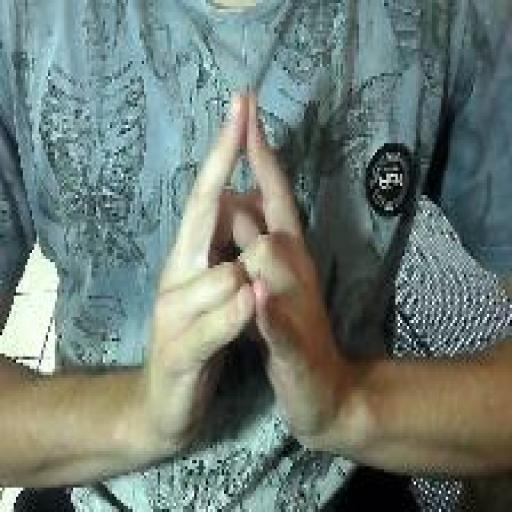Tori -bird-: (144, 84, 345, 456)
